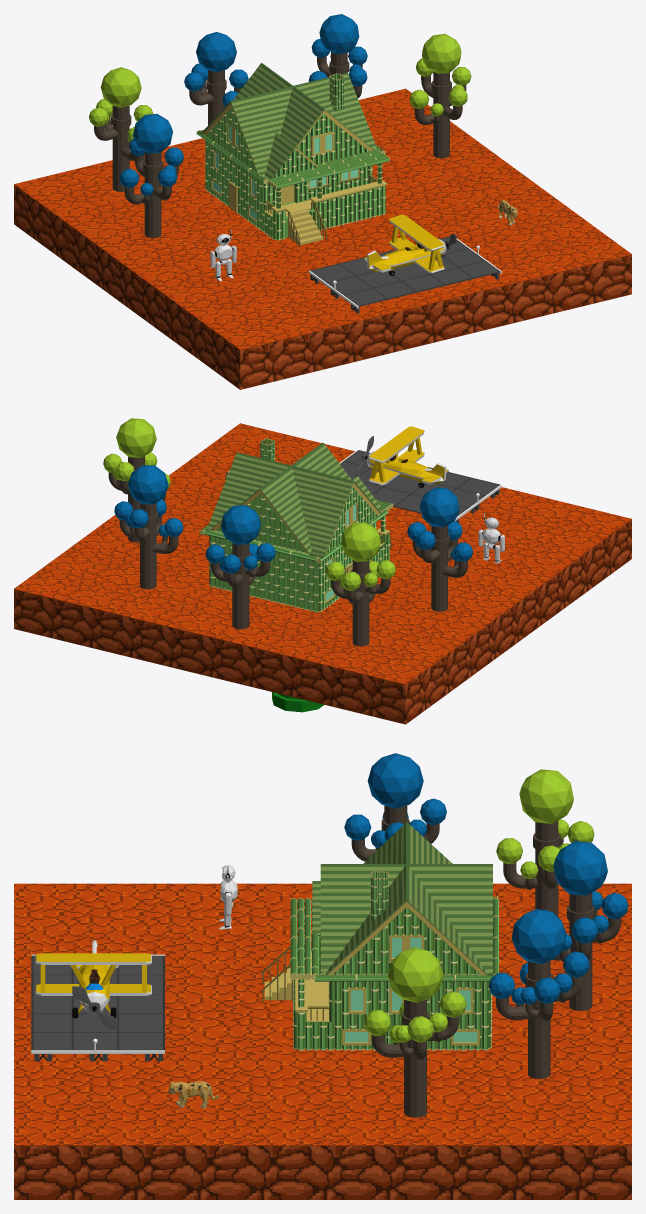
3 renders of one model, top to bottom at view 1: azimuth 30°, elevation 25°; view 2: azimuth 150°, elevation 25°; view 3: azimuth 270°, elevation 25°, orthographic. The views are drawn at different scales.
Parts seen in each view (by area): view 1: Cube.001, Cube.1327, VEHICLES_AIRPLANE, OBJRANDOM_PLATZEEBOT; view 2: Cube.001, Cube.1327, VEHICLES_AIRPLANE, OBJRANDOM_PLATZEEBOT, UNDERGROUND_PIPES; view 3: Cube.001, Cube.1327, VEHICLES_AIRPLANE, ANIMAL_JAGUAR, OBJRANDOM_PLATZEEBOT.
Boxes of the visible parts, x1=… form: Cube.001: x1=14, y1=14, x2=631, y2=389; Cube.1327: x1=196, y1=63, x2=389, y2=246; VEHICLES_AIRPLANE: x1=364, y1=214, x2=456, y2=275; OBJRANDOM_PLATZEEBOT: x1=210, y1=229, x2=236, y2=281; Cube.001: x1=14, y1=418, x2=631, y2=724; Cube.1327: x1=199, y1=438, x2=393, y2=612; VEHICLES_AIRPLANE: x1=356, y1=426, x2=448, y2=488; OBJRANDOM_PLATZEEBOT: x1=478, y1=513, x2=504, y2=563; UNDERGROUND_PIPES: x1=272, y1=692, x2=324, y2=712; Cube.001: x1=14, y1=753, x2=631, y2=1199; Cube.1327: x1=262, y1=822, x2=499, y2=1050; VEHICLES_AIRPLANE: x1=35, y1=940, x2=151, y2=1029; ANIMAL_JAGUAR: x1=168, y1=1081, x2=219, y2=1108; OBJRANDOM_PLATZEEBOT: x1=218, y1=865, x2=237, y2=929.
Size of the model in its own units: 4000 by 2247 by 4000.
Materials: 35 (5 with a texture image).
